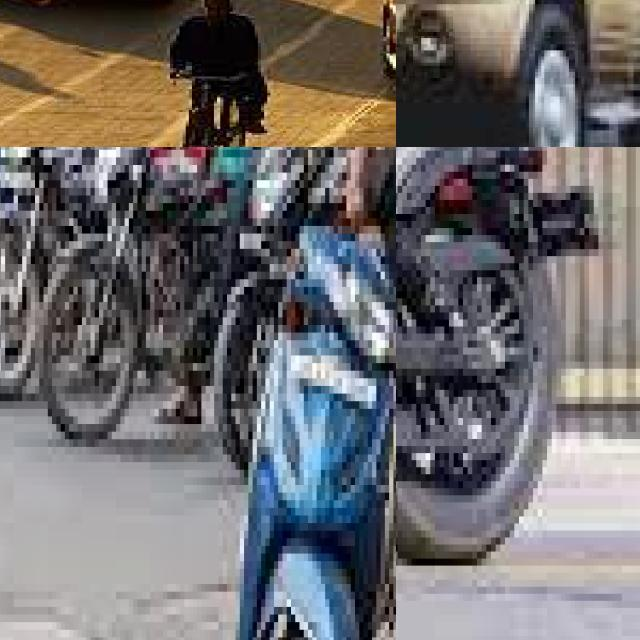bike: (396, 147, 612, 586), (243, 218, 393, 640), (43, 147, 222, 500), (218, 147, 290, 469), (0, 147, 60, 416)
car: (396, 0, 640, 147)
